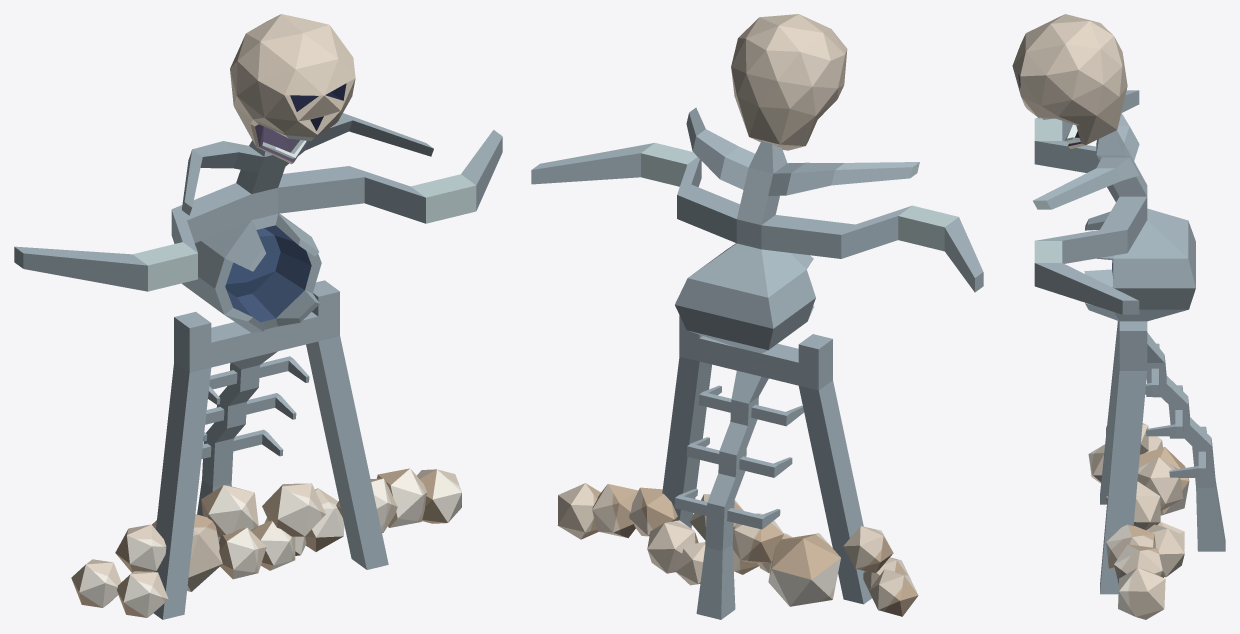
Rendered from huge_skeleton.fbx.
The picture shows the model from 3 angles, left to right: view 1: azimuth 30°, elevation 25°; view 2: azimuth 150°, elevation 25°; view 3: azimuth 270°, elevation 25°; orthographic projection. The views are drawn at different scales.
Visible parts, largest first — view 1: HugeSkeleton; view 2: HugeSkeleton; view 3: HugeSkeleton.
Part boxes in pixels (box(x1,y1,x2,y2)): HugeSkeleton: box(14, 14, 502, 619); HugeSkeleton: box(531, 14, 983, 619); HugeSkeleton: box(1012, 14, 1225, 619).
Bounding box in the file's own units: 2541 × 2967 × 1088.
